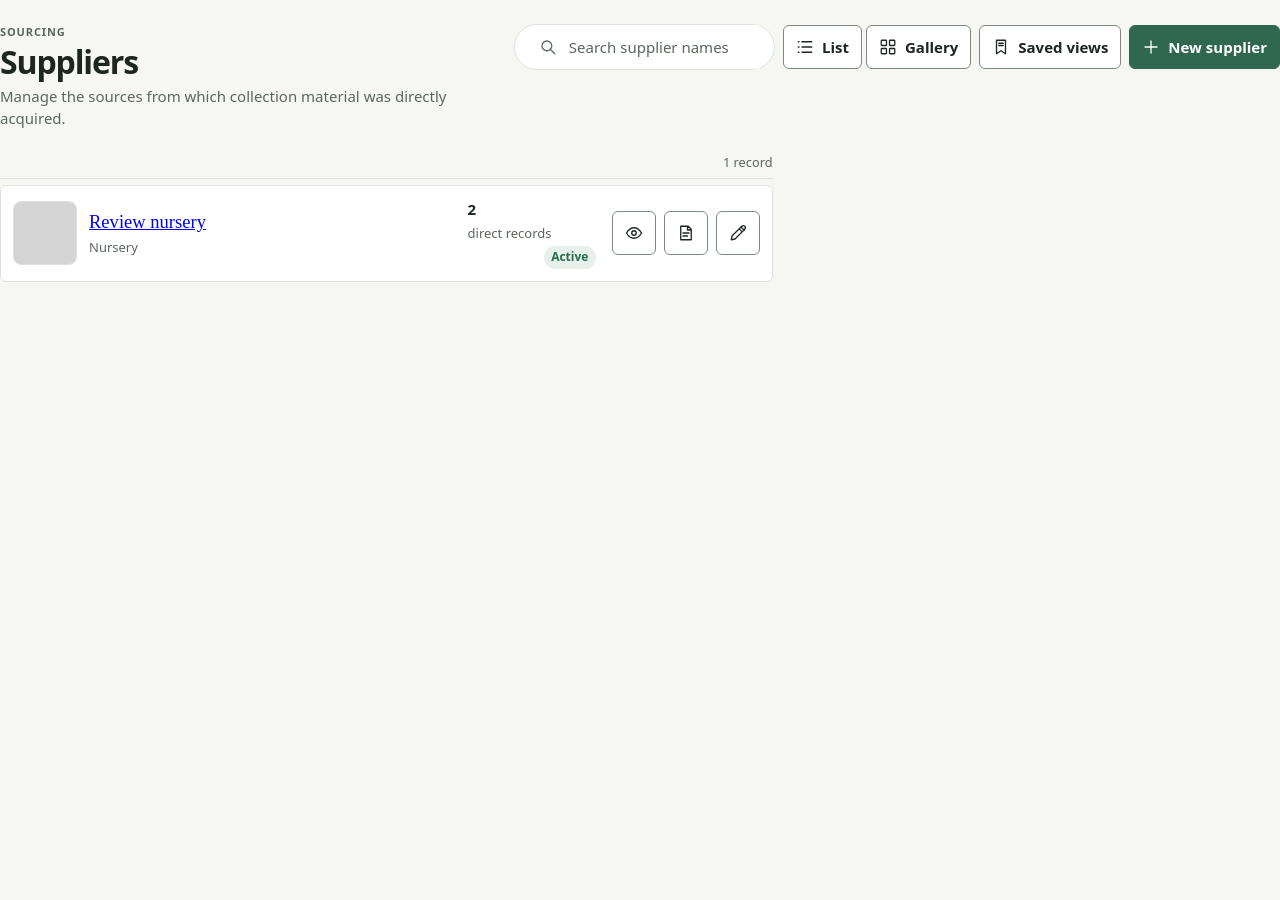
Scenario: New supplier uses the full-width creation panel and saves a new record
The image size is (1280, 900).
Click the button "New supplier". click: {"x": 1205, "y": 47}
box: [1129, 25, 1279, 69]
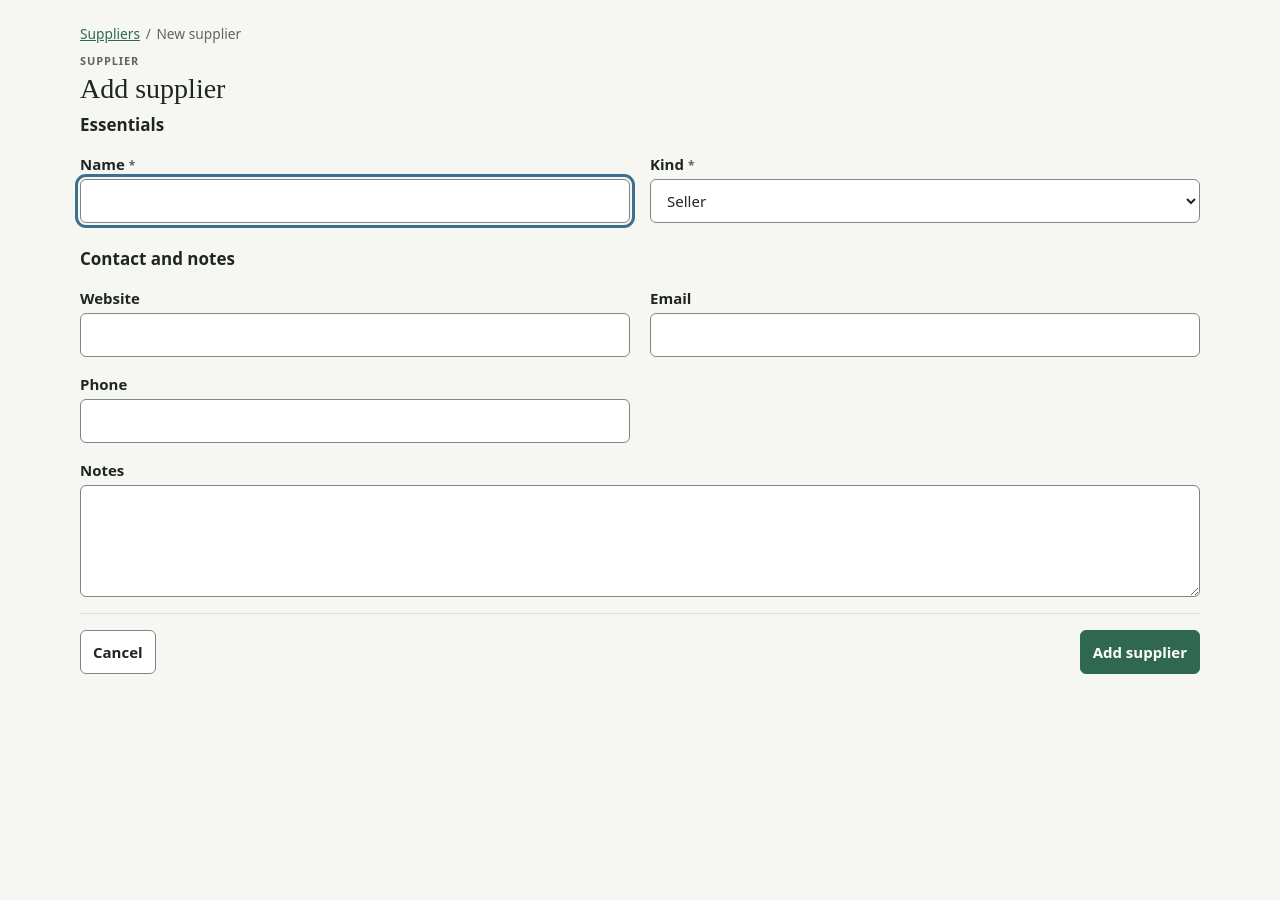
Expected: the heading "Add supplier" is shown, [80, 73, 225, 104]
Type "New nursery" into the field labelled "Name". click: {"x": 355, "y": 201}
box: [80, 179, 630, 223]
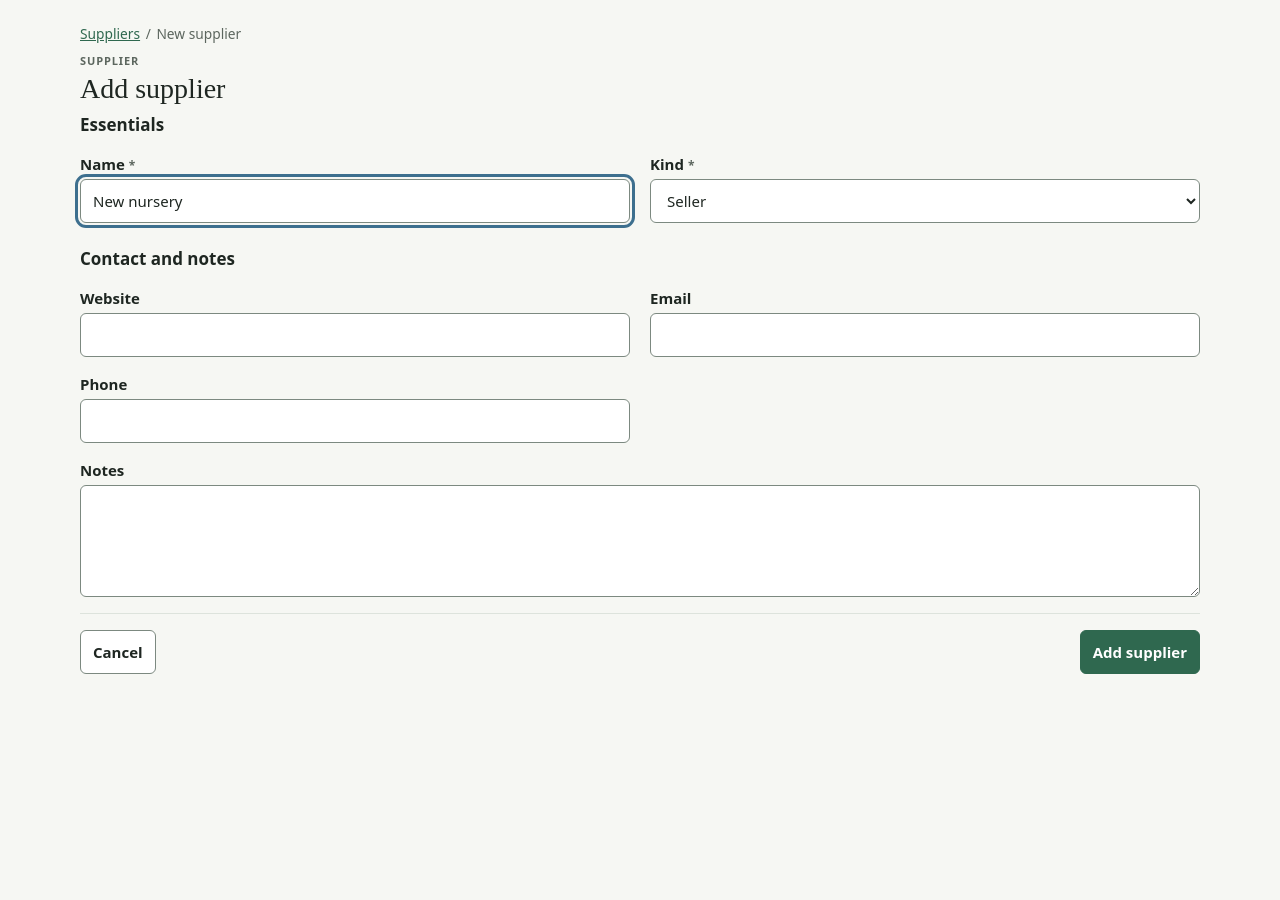
Click the button "Add supplier". click: {"x": 1140, "y": 652}
box: [1080, 630, 1200, 674]
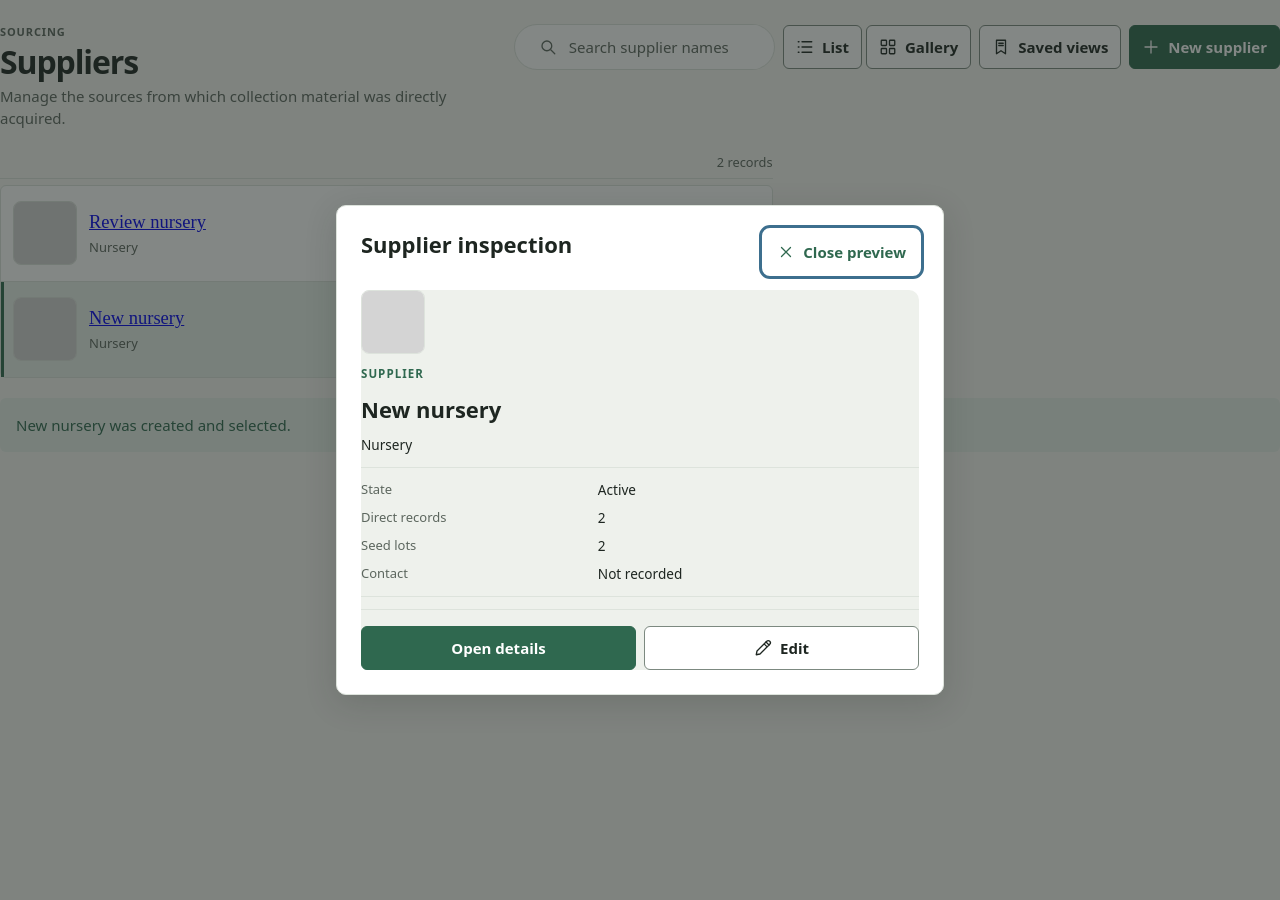
Expected: the heading "New nursery" is shown, [361, 394, 501, 424]
